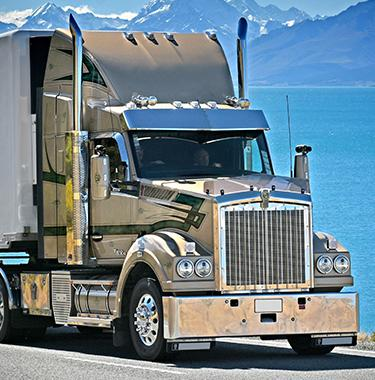truck: (1, 13, 358, 359)
